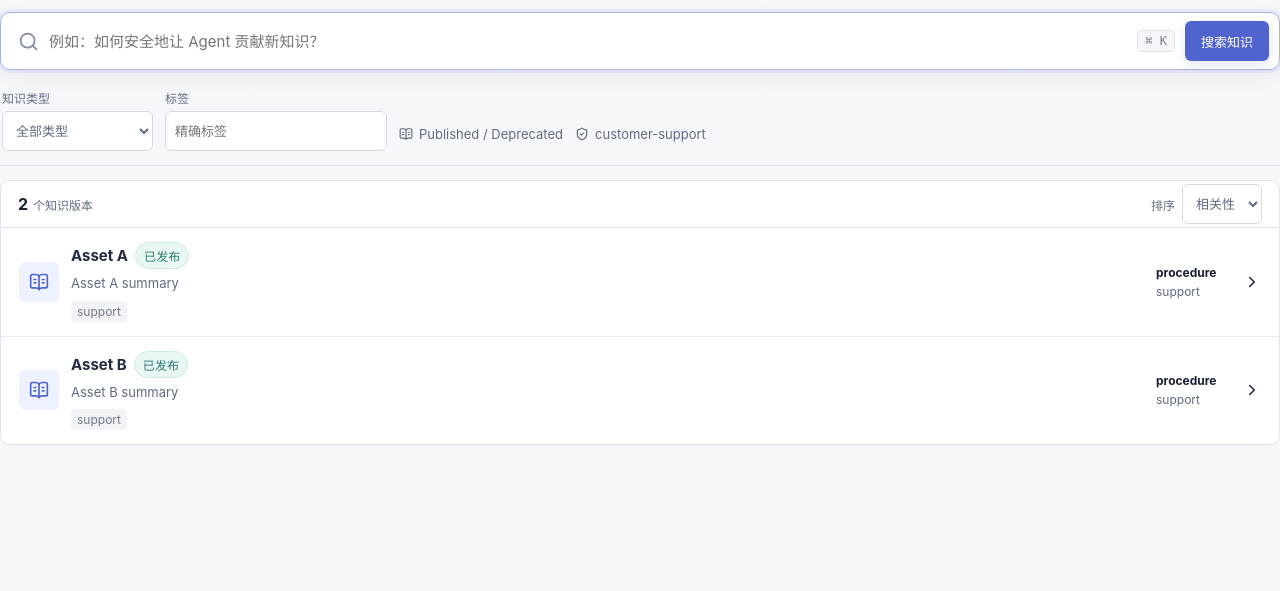
Test: knowledge explorer request identity › ignores a late detail response after another asset was selected
Step 1. Click the button "Asset A 已发布 Asset A summary support procedure support" → (39, 282), box [1,228,1279,337]
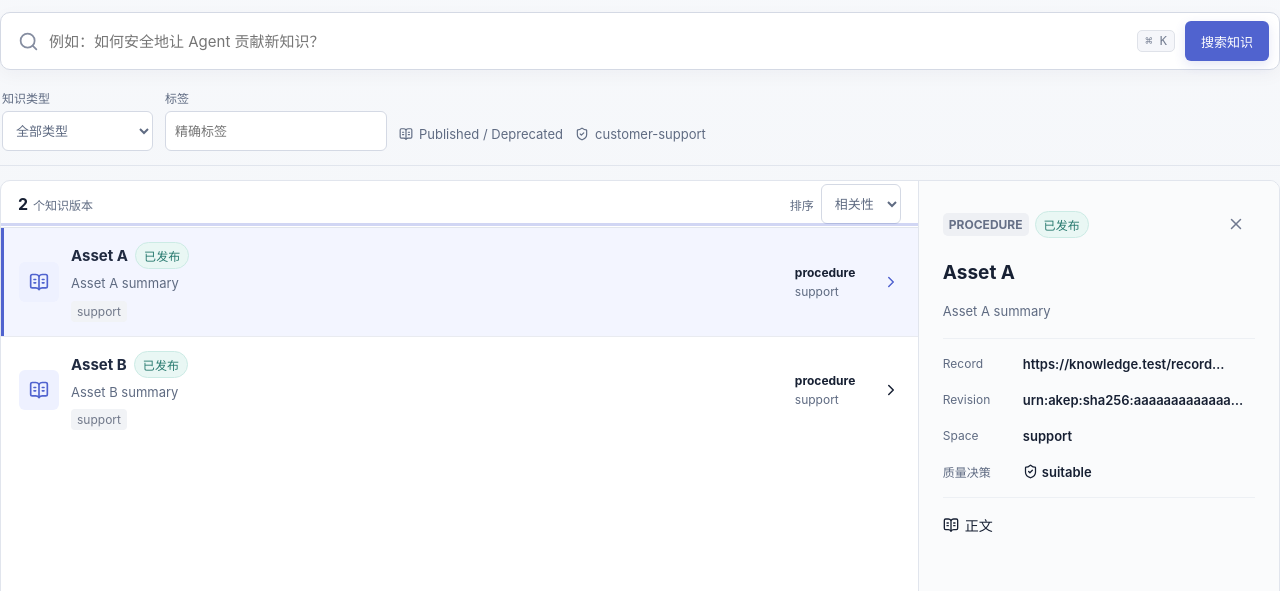
Step 2. Click the button "Asset B 已发布 Asset B summary support procedure support" → (39, 390), box [1,337,918,444]
(page scrolled)
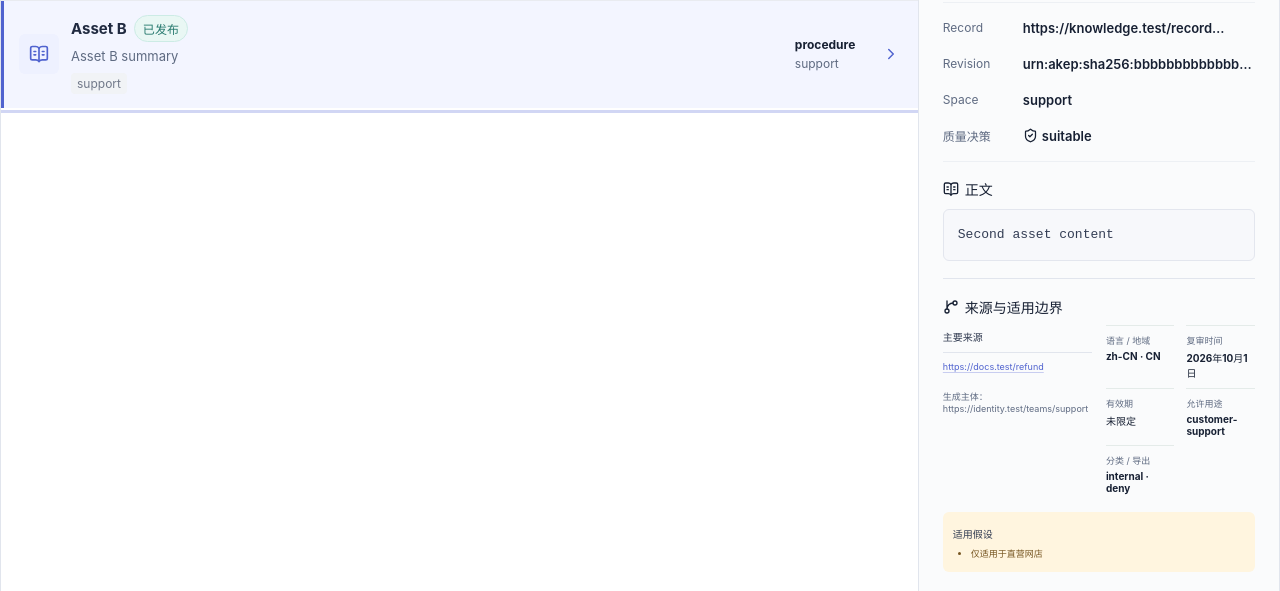
Check: the text "Second asset content" is shown, box [943,209,1255,261]
